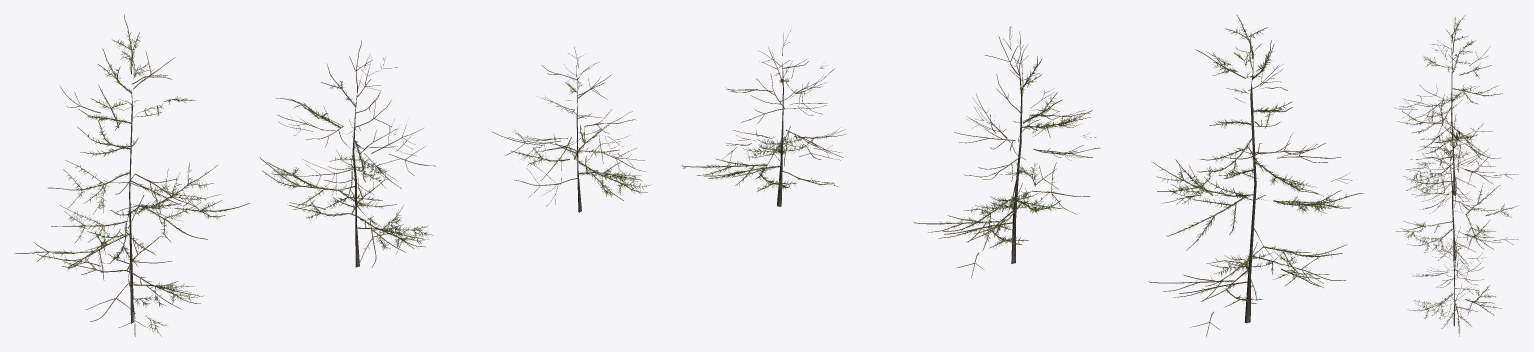
The model's file is fir_sapling_lod.glb.
The picture shows the model from 3 angles, left to right: view 1: azimuth 30°, elevation 25°; view 2: azimuth 150°, elevation 25°; view 3: azimuth 270°, elevation 25°; orthographic projection. The views are drawn at different scales.
Bounding box in the file's own units: 2.72 × 1.29 × 0.8133.
Materials: 2 (2 with a texture image).
